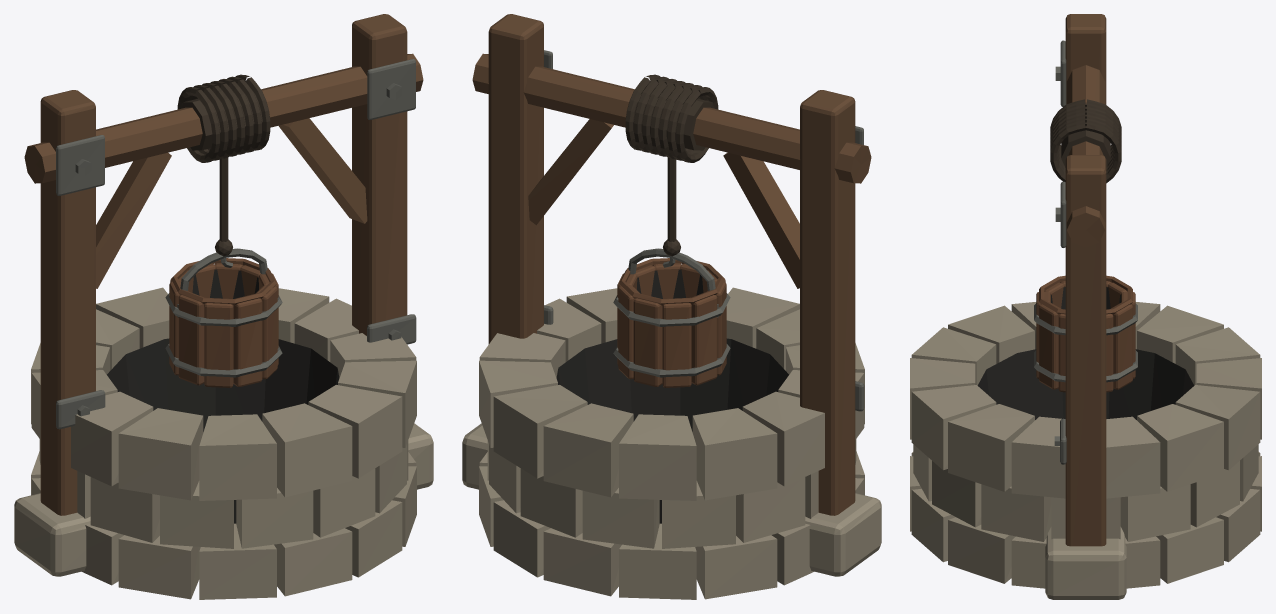
File: Well.glb
3 views of the same model, side by side, from view 1: azimuth 30°, elevation 25°; view 2: azimuth 150°, elevation 25°; view 3: azimuth 270°, elevation 25° (orthographic). The views are drawn at different scales.
Visible parts, largest first — view 1: hand-pump-static-well-warm-stone-mat, hand-pump-static-well-structural-timber-mat, hand-pump-static-well-bucket-wood-mat, hand-pump-static-well-shaft-cavity-mat, hand-pump-static-well-dark-iron-mat, hand-pump-static-well-dark-rope-mat; view 2: hand-pump-static-well-warm-stone-mat, hand-pump-static-well-structural-timber-mat, hand-pump-static-well-bucket-wood-mat, hand-pump-static-well-shaft-cavity-mat, hand-pump-static-well-dark-rope-mat, hand-pump-static-well-dark-iron-mat; view 3: hand-pump-static-well-warm-stone-mat, hand-pump-static-well-structural-timber-mat, hand-pump-static-well-shaft-cavity-mat, hand-pump-static-well-bucket-wood-mat, hand-pump-static-well-dark-rope-mat, hand-pump-static-well-dark-iron-mat.
Part boxes in pixels (x1=…): hand-pump-static-well-warm-stone-mat: x1=14, y1=287, x2=433, y2=599; hand-pump-static-well-structural-timber-mat: x1=24, y1=14, x2=423, y2=515; hand-pump-static-well-bucket-wood-mat: x1=169, y1=258, x2=278, y2=387; hand-pump-static-well-shaft-cavity-mat: x1=107, y1=269, x2=339, y2=523; hand-pump-static-well-dark-iron-mat: x1=56, y1=59, x2=416, y2=429; hand-pump-static-well-dark-rope-mat: x1=177, y1=74, x2=270, y2=256; hand-pump-static-well-warm-stone-mat: x1=462, y1=287, x2=881, y2=599; hand-pump-static-well-structural-timber-mat: x1=472, y1=14, x2=871, y2=515; hand-pump-static-well-bucket-wood-mat: x1=617, y1=258, x2=726, y2=387; hand-pump-static-well-shaft-cavity-mat: x1=556, y1=269, x2=788, y2=523; hand-pump-static-well-dark-rope-mat: x1=625, y1=74, x2=718, y2=256; hand-pump-static-well-dark-iron-mat: x1=544, y1=50, x2=864, y2=411; hand-pump-static-well-warm-stone-mat: x1=910, y1=302, x2=1261, y2=599; hand-pump-static-well-structural-timber-mat: x1=1065, y1=14, x2=1106, y2=546; hand-pump-static-well-shaft-cavity-mat: x1=977, y1=287, x2=1194, y2=419; hand-pump-static-well-bucket-wood-mat: x1=1036, y1=275, x2=1135, y2=392; hand-pump-static-well-dark-rope-mat: x1=1050, y1=99, x2=1121, y2=183; hand-pump-static-well-dark-iron-mat: x1=1034, y1=40, x2=1137, y2=464.
Size of the model in its own units: 1.82 by 2.08 by 1.56.
